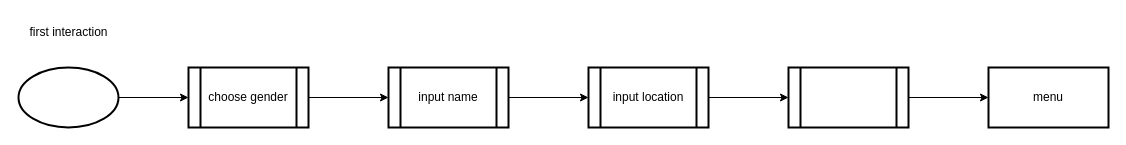
This 1126x145 diagram has some shape labels left out. Each missing label, with the centre of its shape:
"input preference" goes at point 848,97.
"start" goes at point 68,97.
